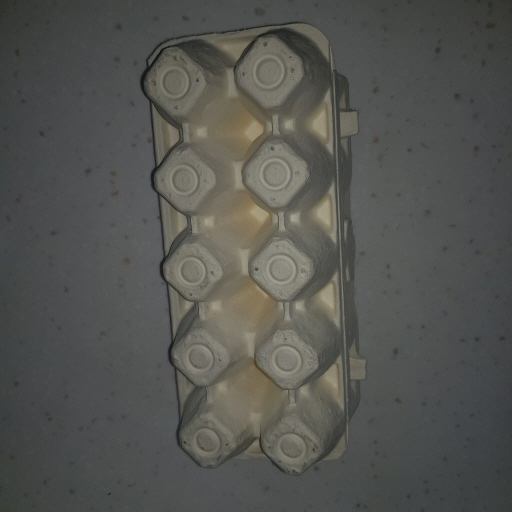Paper_0: (141, 21, 371, 473)
